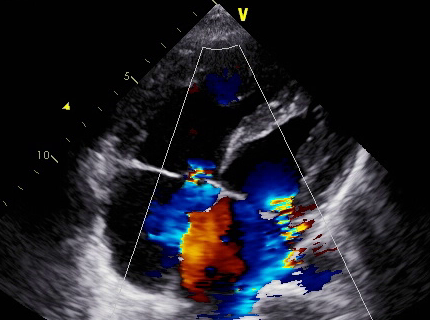MR: (227, 181, 300, 251)
